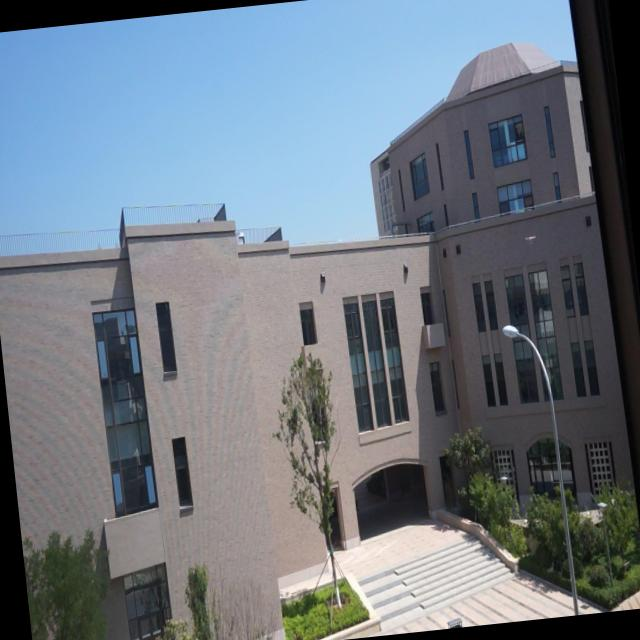drone: (520, 224, 540, 252)
